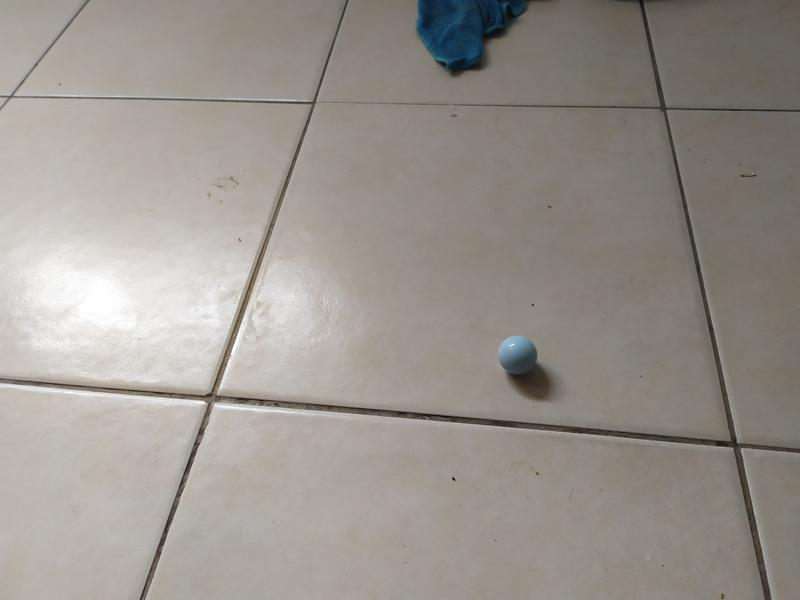Warning: (495, 333, 539, 377)
